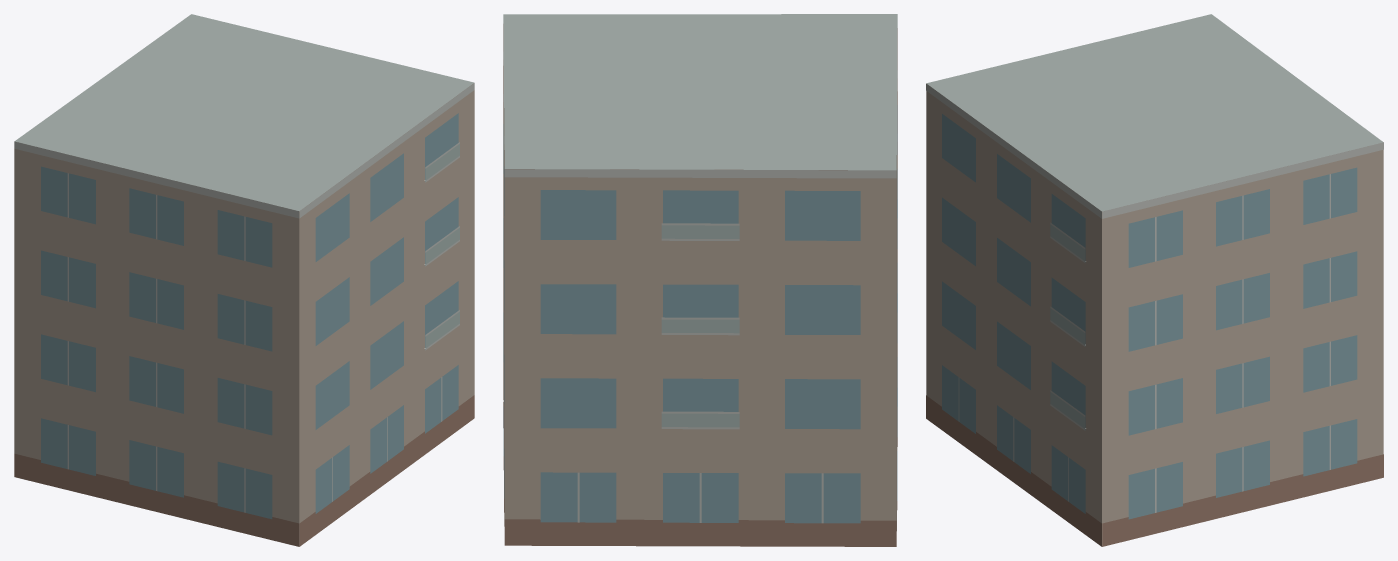
File: survey-upis-32722778.glb
3 renders of one model, left to right at view 1: azimuth 30°, elevation 25°; view 2: azimuth 150°, elevation 25°; view 3: azimuth 270°, elevation 25°, orthographic. The views are drawn at different scales.
Parts seen in each view (by area): view 1: survey-upis-32722778.tmp; view 2: survey-upis-32722778.tmp; view 3: survey-upis-32722778.tmp.
Part boxes in pixels (bbox=[...]): survey-upis-32722778.tmp: bbox=[14, 14, 474, 546]; survey-upis-32722778.tmp: bbox=[503, 14, 897, 546]; survey-upis-32722778.tmp: bbox=[926, 14, 1383, 546].
Bounding box in the file's own units: 14.17 × 11.2 × 13.87.
